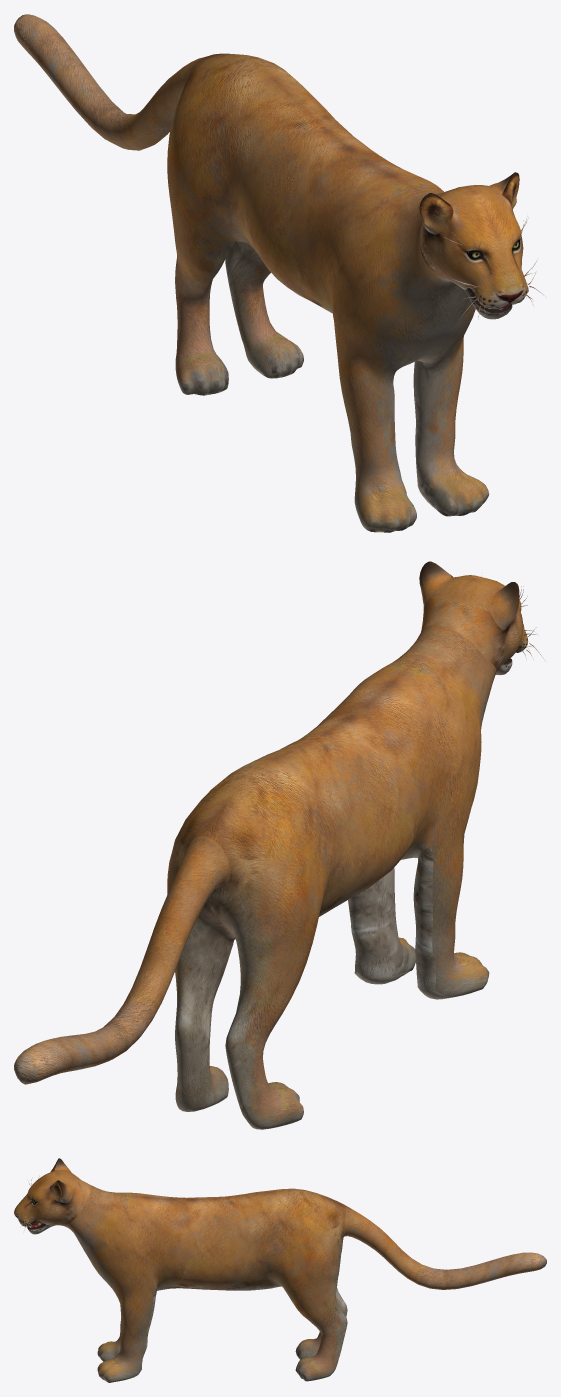
The model's file is Puma_01.glb.
3 renders of one model, top to bottom at view 1: azimuth 30°, elevation 25°; view 2: azimuth 150°, elevation 25°; view 3: azimuth 270°, elevation 25°, orthographic. The views are drawn at different scales.
Parts seen in each view (by area): view 1: Puma; view 2: Puma; view 3: Puma.
Boxes of the visible parts, x1,y1,x2,y2 form: Puma: (14, 14, 546, 532); Puma: (14, 561, 545, 1129); Puma: (14, 1158, 546, 1382).
Bounding box in the file's own units: 1.13 × 3.06 × 7.43.
Materials: 1 (1 with a texture image).
